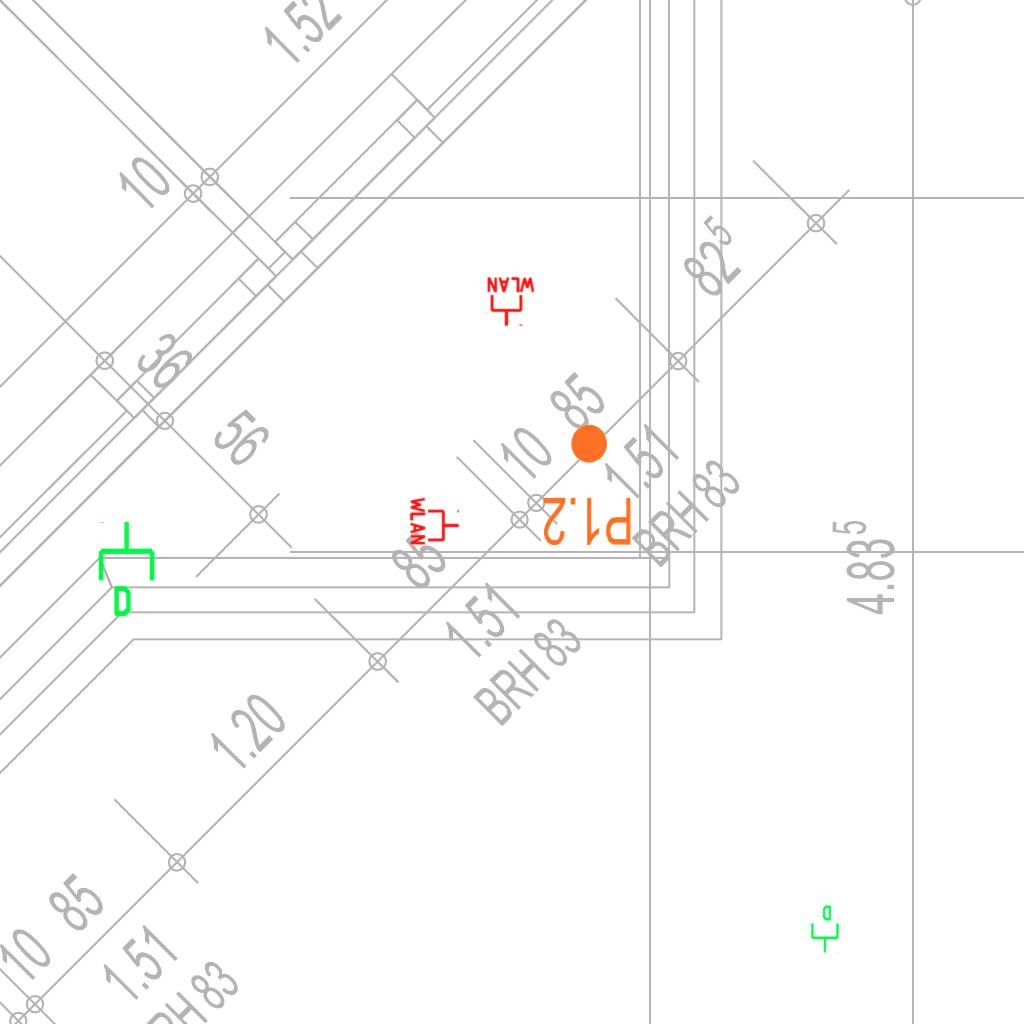Datenanschluss_einfach: (94, 519, 163, 619), (807, 904, 841, 954)
Downlight_LED_Einbauleuchten_Flur: (541, 421, 634, 549)
WLAN: (485, 276, 537, 328), (409, 495, 461, 547)
